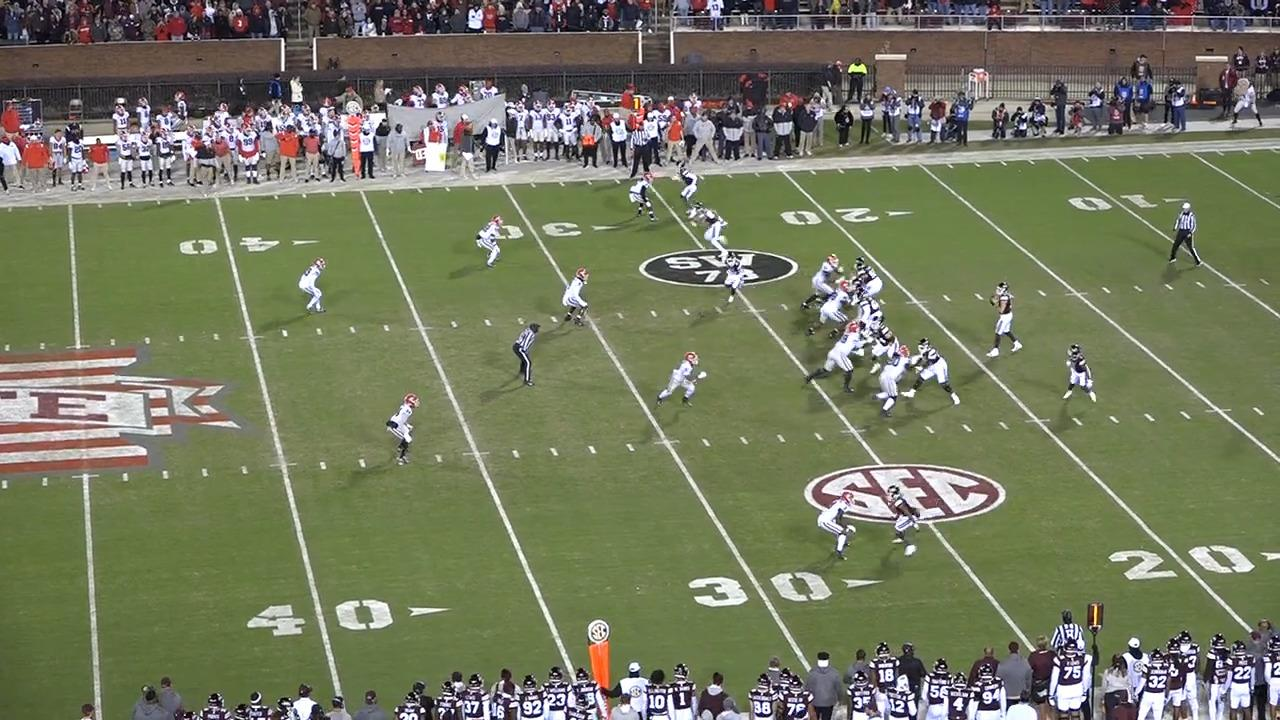player: (806, 325, 865, 394), (651, 350, 704, 413), (915, 338, 963, 407), (982, 278, 1019, 361), (874, 346, 913, 418), (814, 488, 852, 561), (810, 281, 857, 339), (887, 484, 922, 559), (385, 392, 419, 468), (1058, 342, 1094, 407), (800, 253, 839, 312), (699, 200, 734, 258), (560, 268, 591, 329), (718, 246, 750, 304), (293, 254, 323, 315), (473, 215, 506, 270), (867, 322, 898, 375), (671, 163, 697, 221), (629, 175, 657, 225), (850, 288, 885, 324), (858, 259, 887, 299), (850, 276, 873, 302)
ref: (1171, 202, 1204, 267), (508, 322, 538, 391), (1049, 606, 1086, 656), (630, 122, 651, 178)
